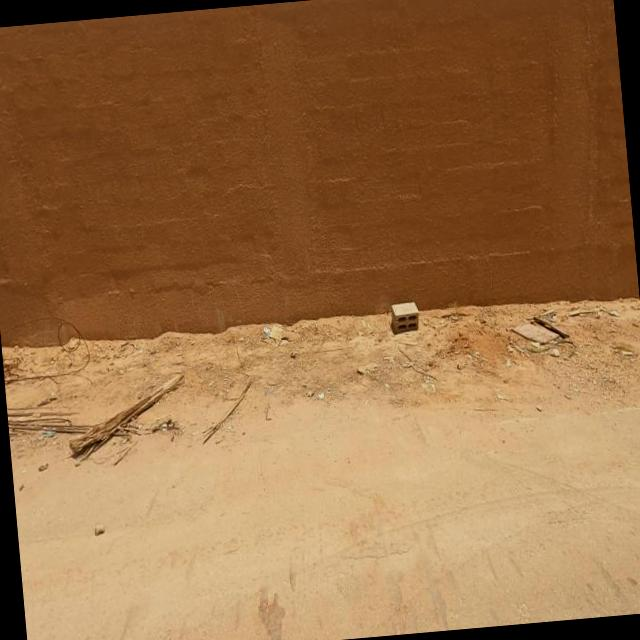debris: (0, 283, 285, 528), (464, 262, 640, 405), (347, 263, 455, 381), (233, 302, 319, 378), (308, 364, 343, 426)
